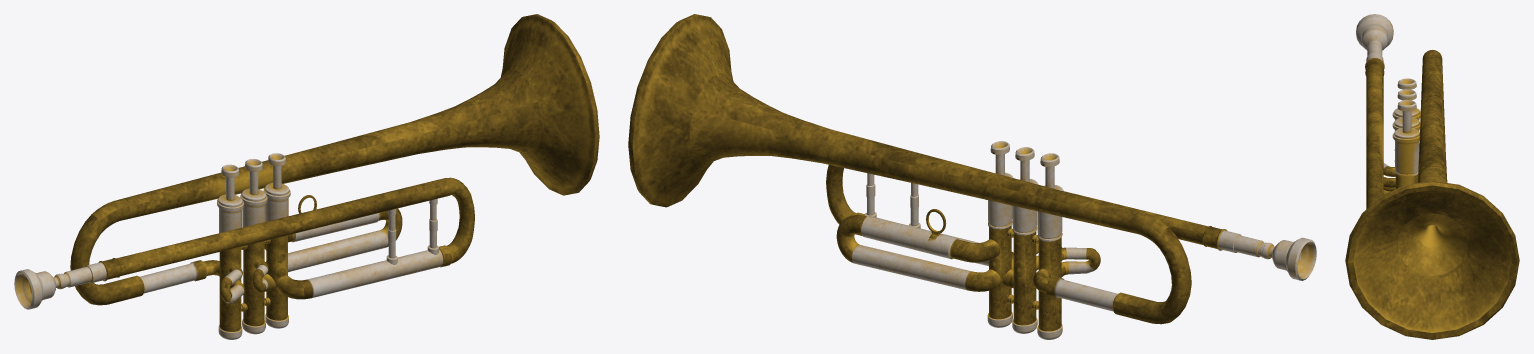
Rendered from trumpet.glb.
The picture shows the model from 3 angles, left to right: view 1: azimuth 30°, elevation 25°; view 2: azimuth 150°, elevation 25°; view 3: azimuth 270°, elevation 25°; orthographic projection. The views are drawn at different scales.
Parts seen in each view (by area): view 1: g; view 2: g; view 3: g.
Part boxes in pixels (x1,y1,x2,y2): g: (14, 14, 599, 339); g: (628, 14, 1316, 339); g: (1345, 14, 1519, 339).
Size of the model in its own units: 2 by 0.7643 by 0.5727.
1 material, 1 textured.
